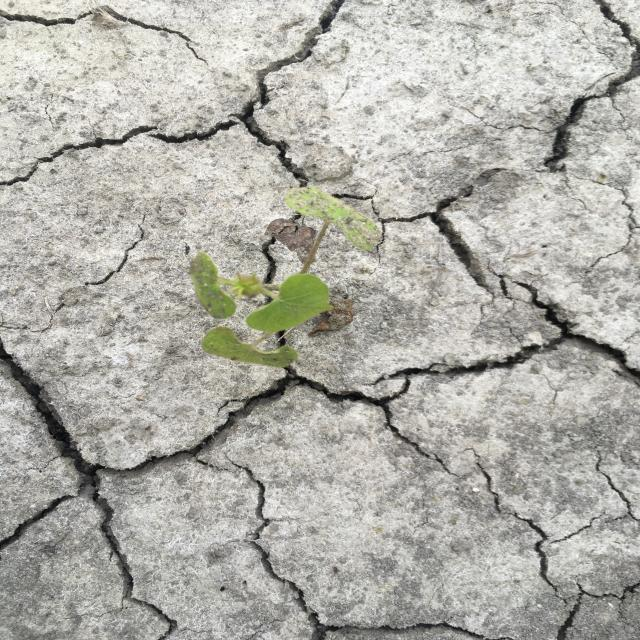MorningGlory: (187, 184, 384, 369)
